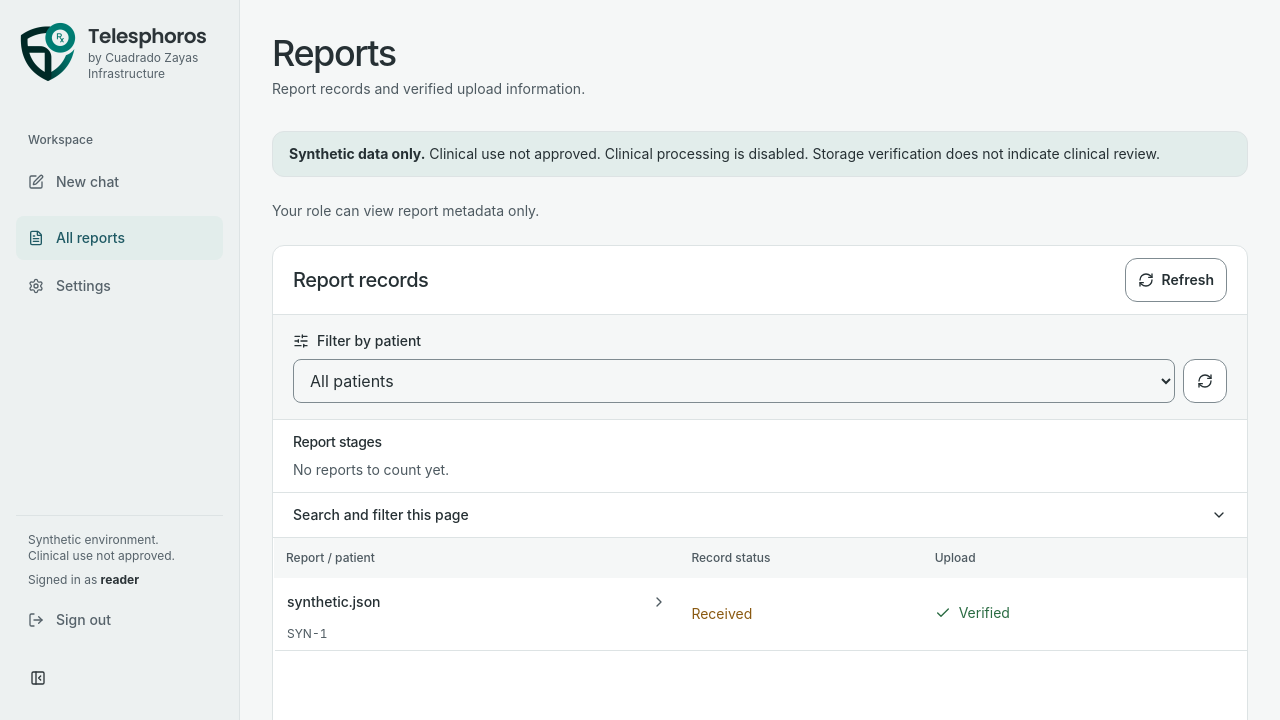
Test: reports page with real auth and route guards › focuses selected details, exposes technical fields on request and returns to the same report
Click the button with aria-label "Open synthetic.json". click: (334, 602)
box: [287,578,667,626]
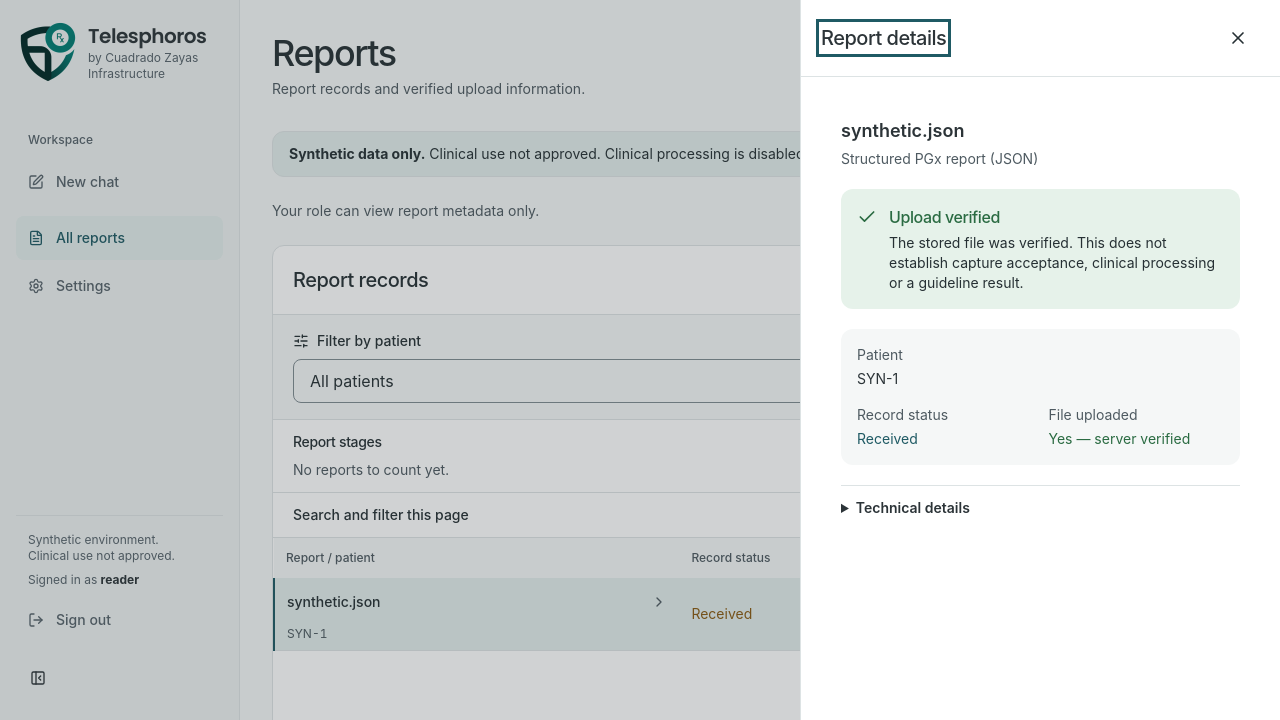
Click the heading "Technical details". click: (913, 508)
box: [856,499,970,516]
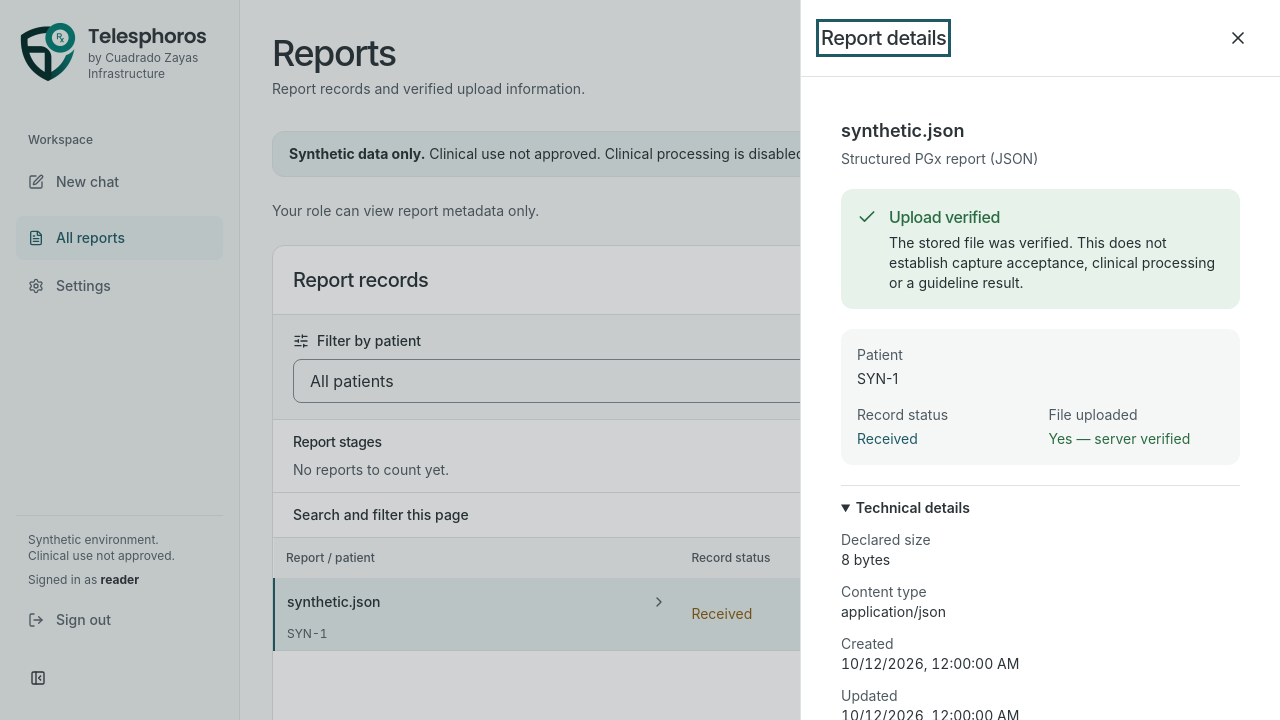
Expected: the text "Technical details" has attribute open, [841,485,1240,719]
Click the button named "Back to reports". click: (1238, 38)
box: [1216,16,1260,60]
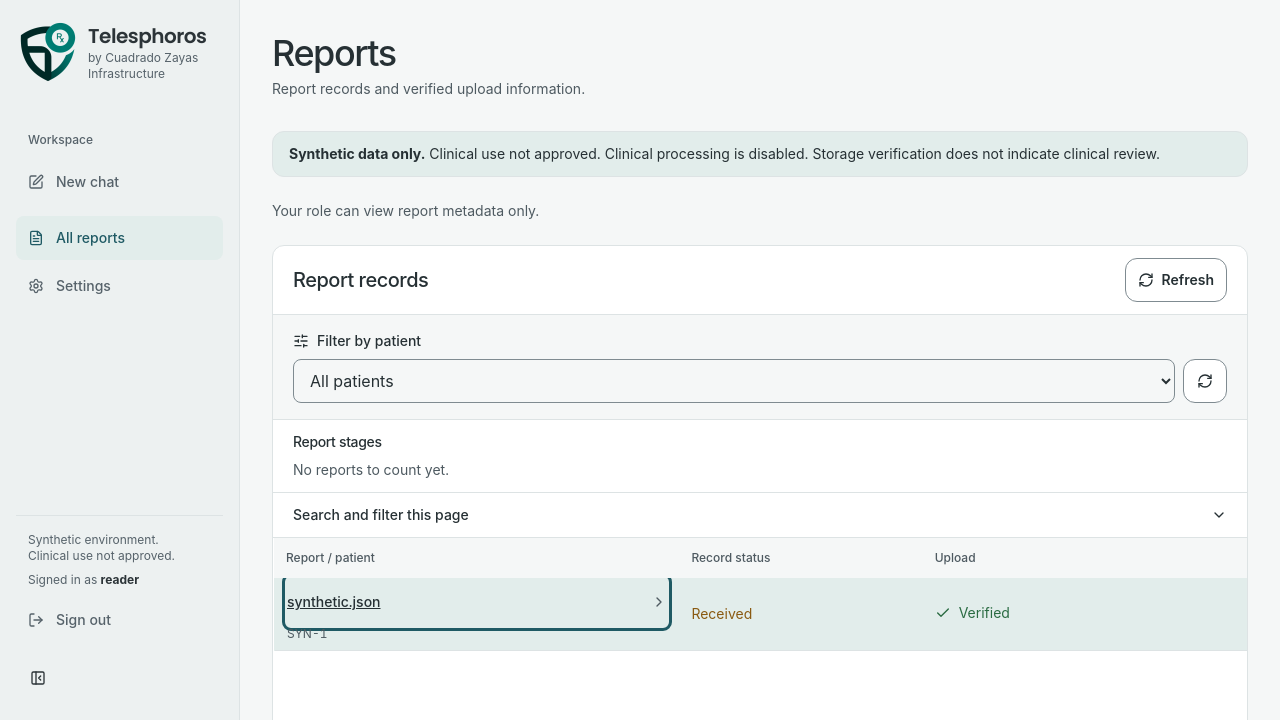
Expected: the text "Yes — server verified" is gone
